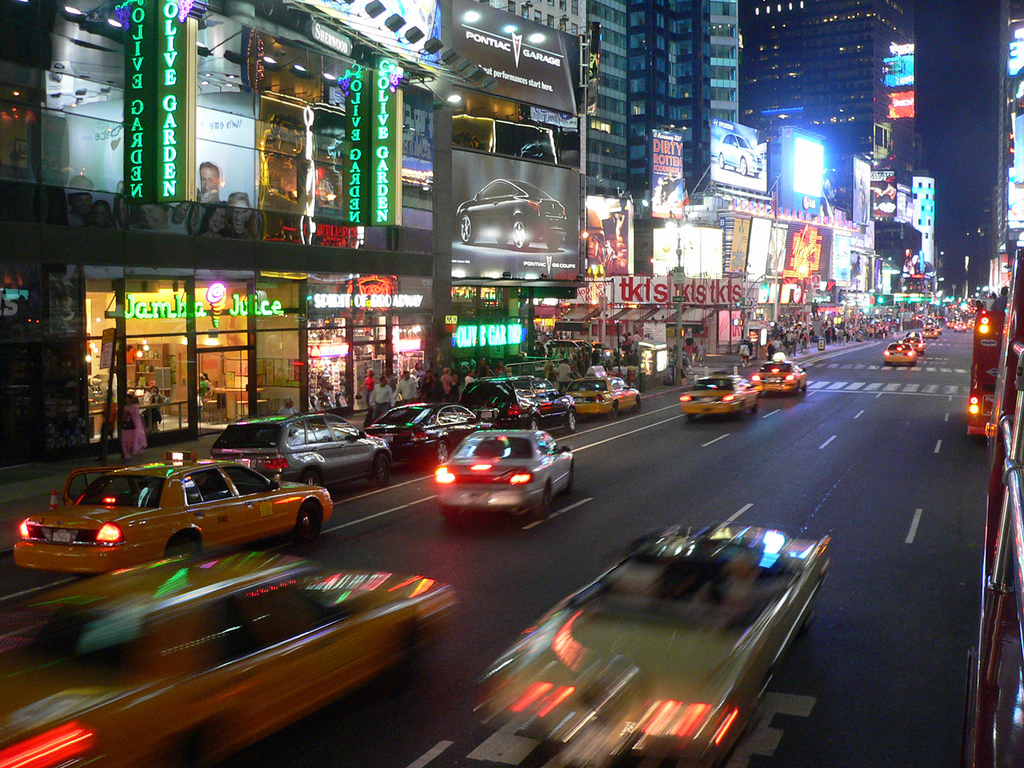mobil: (19, 462, 336, 568), (230, 405, 398, 492), (435, 427, 574, 518), (679, 371, 752, 417), (748, 360, 812, 396), (877, 342, 918, 364)
